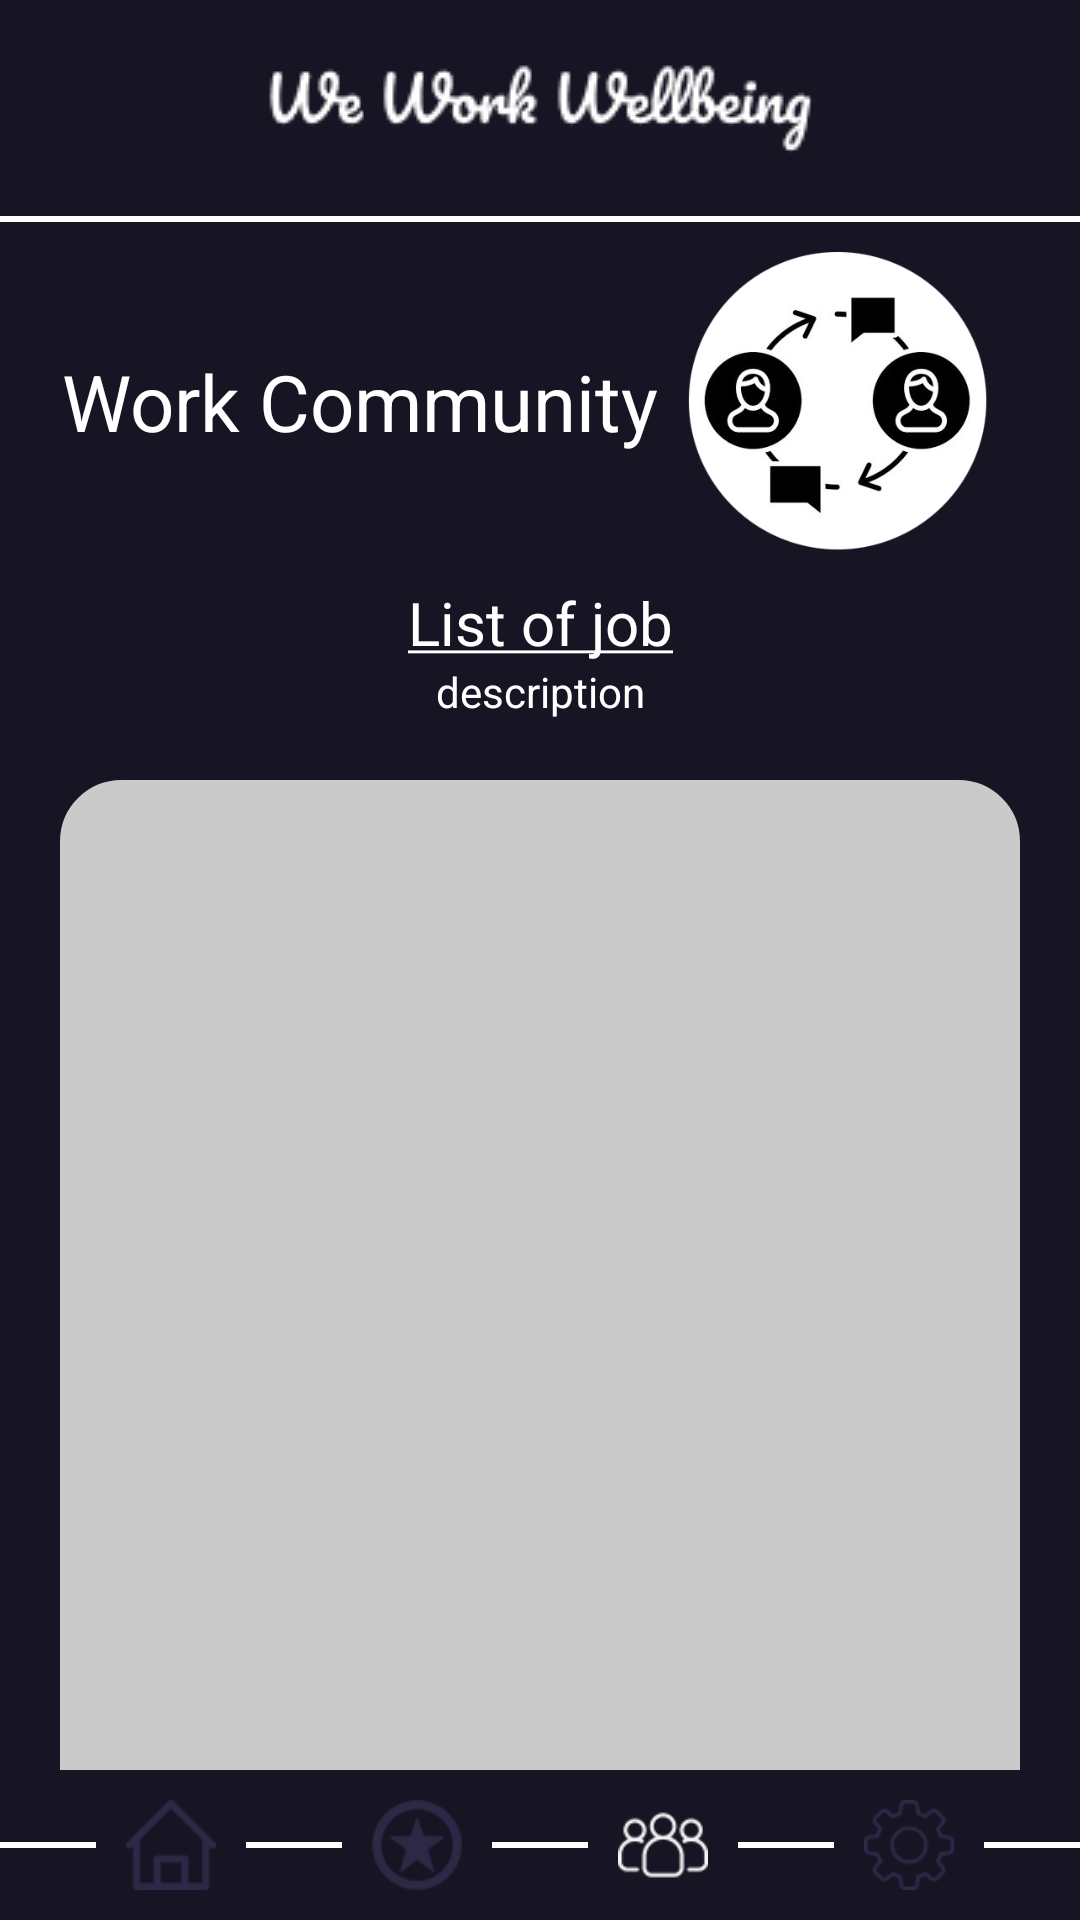

Where icons sit on this 1080×1920 app screen, as region(x1, y1, x2, y2):
home: region(126, 1800, 216, 1890)
settings: region(864, 1800, 954, 1890)
star: region(372, 1800, 462, 1890)
team: region(618, 1812, 708, 1878)
